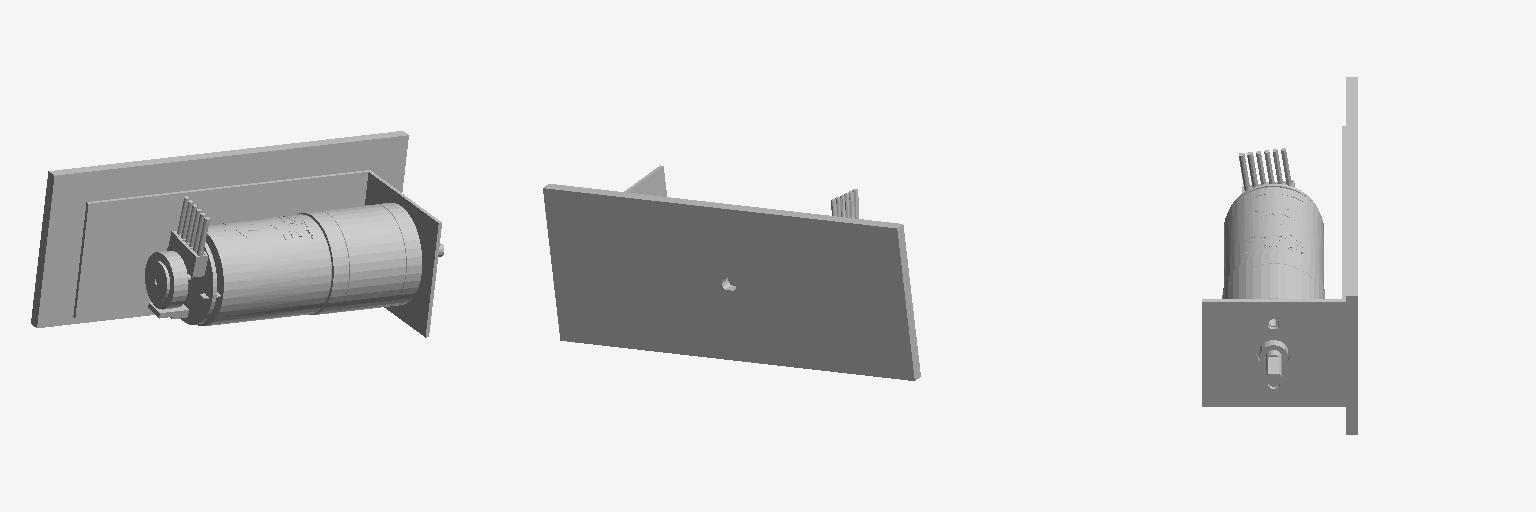
File: Manipulator_Sterowniki_Robotow_I_czlon_obrotowy.obj
3 views of the same model, side by side, from view 1: azimuth 30°, elevation 25°; view 2: azimuth 150°, elevation 25°; view 3: azimuth 270°, elevation 25° (orthographic).
Parts seen in each view (by area): view 1: Solid1:2, Solid1:1, Solid1; view 2: Solid1, Solid1:1, Solid1:2; view 3: Solid1:1, Solid1:2, Solid1.
Part boxes in pixels (x1,y1,x2,y2): Solid1:2: (145,196,443,325); Solid1:1: (73,170,441,337); Solid1: (31,131,408,327); Solid1: (543,184,920,380); Solid1:1: (624,165,734,284); Solid1:2: (733,189,858,285); Solid1:1: (1202,126,1345,406); Solid1:2: (1222,148,1324,386); Solid1: (1346,77,1357,434).
Bounding box in the file's own units: 104 × 52.02 × 38.